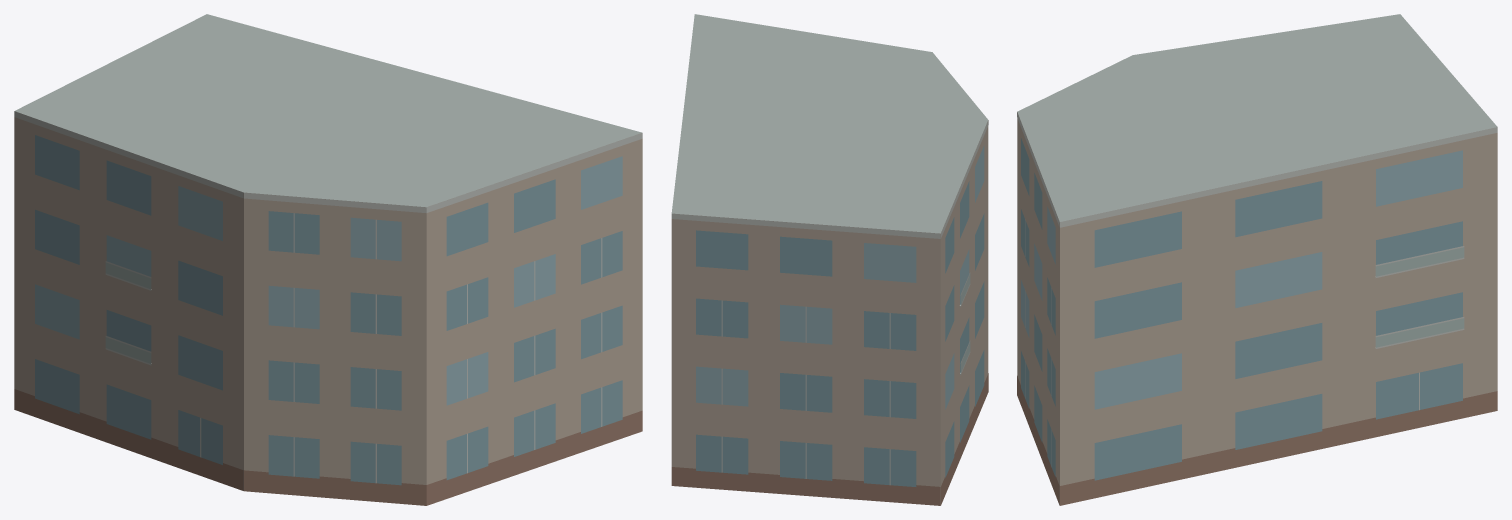
Rendered from residential-df5e2700-3484-4cbb-87fe-79bd580f69a7.glb.
3 views of the same model, side by side, from view 1: azimuth 30°, elevation 25°; view 2: azimuth 150°, elevation 25°; view 3: azimuth 270°, elevation 25° (orthographic). The views are drawn at different scales.
Visible parts, largest first — view 1: residential-df5e2700-3484-4cbb-87fe-79bd580f69a7.tmp; view 2: residential-df5e2700-3484-4cbb-87fe-79bd580f69a7.tmp; view 3: residential-df5e2700-3484-4cbb-87fe-79bd580f69a7.tmp.
Part boxes in pixels (x1,y1,x2,y2): residential-df5e2700-3484-4cbb-87fe-79bd580f69a7.tmp: (14,14,642,505); residential-df5e2700-3484-4cbb-87fe-79bd580f69a7.tmp: (671,14,988,505); residential-df5e2700-3484-4cbb-87fe-79bd580f69a7.tmp: (1017,14,1497,505).
Bounding box in the file's own units: 19.21 × 12.2 × 18.74.
